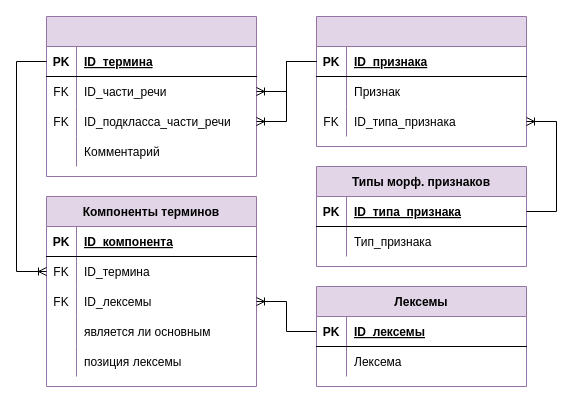
The diagram is 573 pixels wide and 403 high, and some of its shapes have lost their labels. The shapes that lost their labels are listed below. From the top down, each one's box as (x1, y1, x2, y2) in pixels, then its label:
(46, 16, 256, 176): Термины
(316, 16, 526, 146): Морфологические признаки
